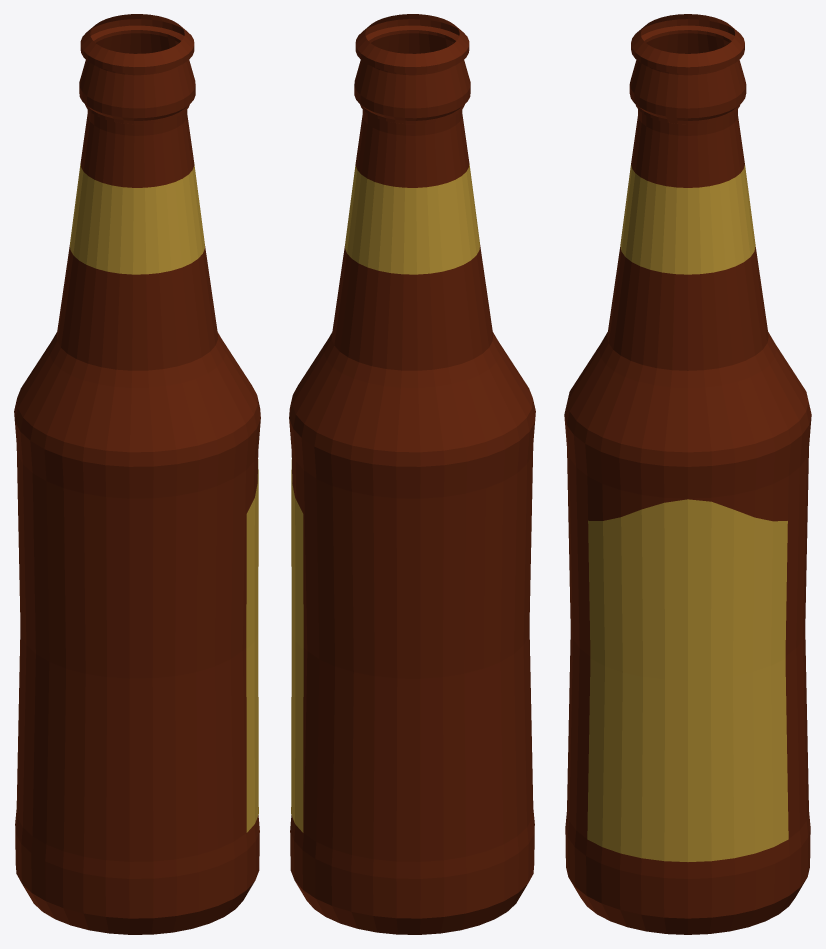
The model's file is beer_bottle.glb.
3 views of the same model, side by side, from view 1: azimuth 30°, elevation 25°; view 2: azimuth 150°, elevation 25°; view 3: azimuth 270°, elevation 25° (orthographic).
Visible parts, largest first — view 1: bottle, label2, label; view 2: bottle, label2, label; view 3: bottle, label, label2.
Boxes of the visible parts, left/top/right/bottom form: bottle: left=14, top=14, right=260, bottom=934; label2: left=70, top=162, right=204, bottom=274; label: left=246, top=459, right=258, bottom=832; bottle: left=289, top=14, right=535, bottom=934; label2: left=345, top=162, right=479, bottom=274; label: left=291, top=459, right=303, bottom=832; bottle: left=564, top=14, right=811, bottom=934; label: left=587, top=499, right=788, bottom=861; label2: left=620, top=165, right=755, bottom=274.
Bounding box in the file's own units: 1.02 × 3.9 × 1.02.
